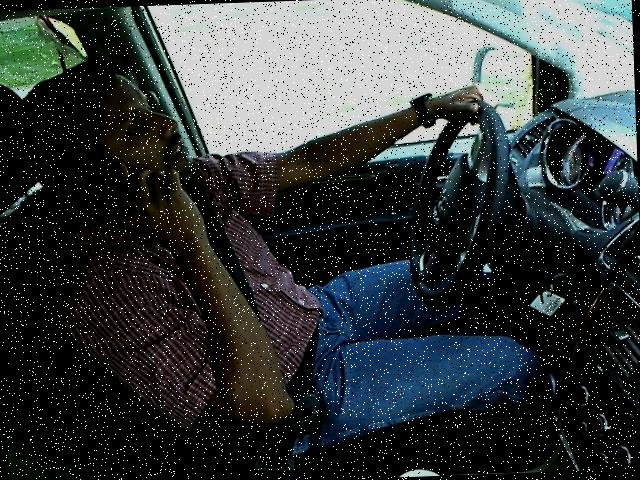c2 - Talking on the phone: (8, 42, 528, 444)
